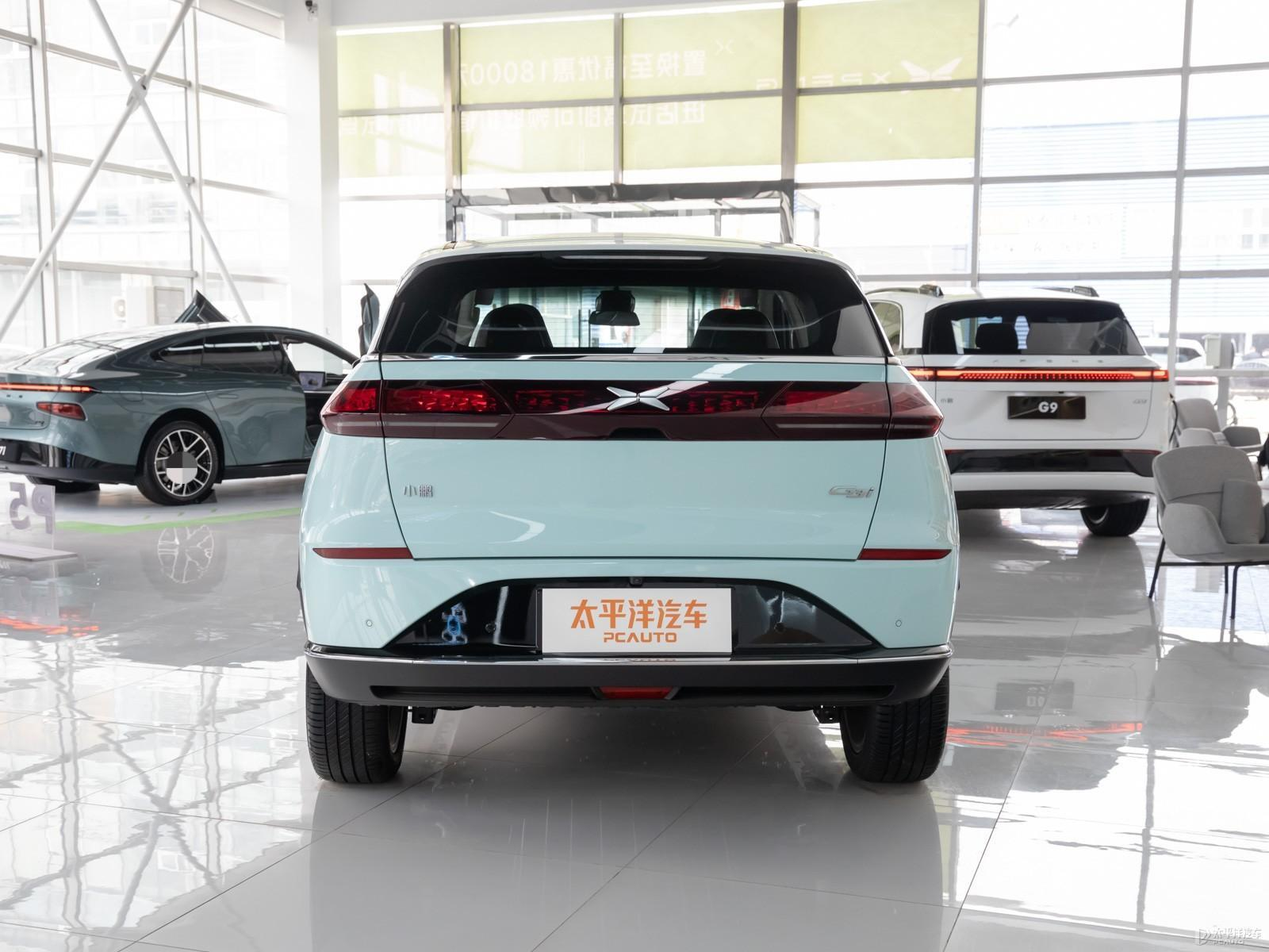XPeng Motors: (606, 386, 670, 412)
